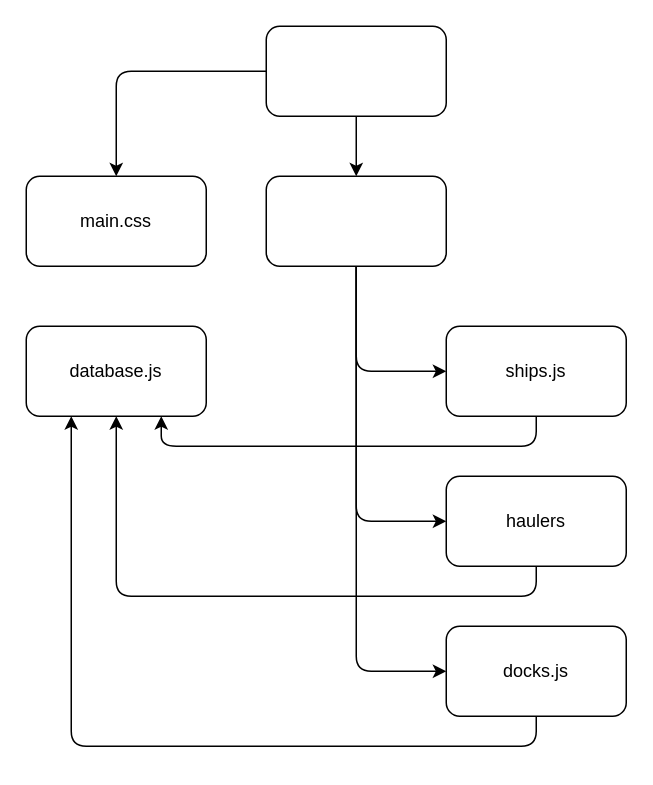
Image size: 653x785. Some labels were removed from this diagram. The centre of each missing label's shape, as x and y in pixels:
index.html: (x=355, y=70)
main.js: (x=355, y=220)
